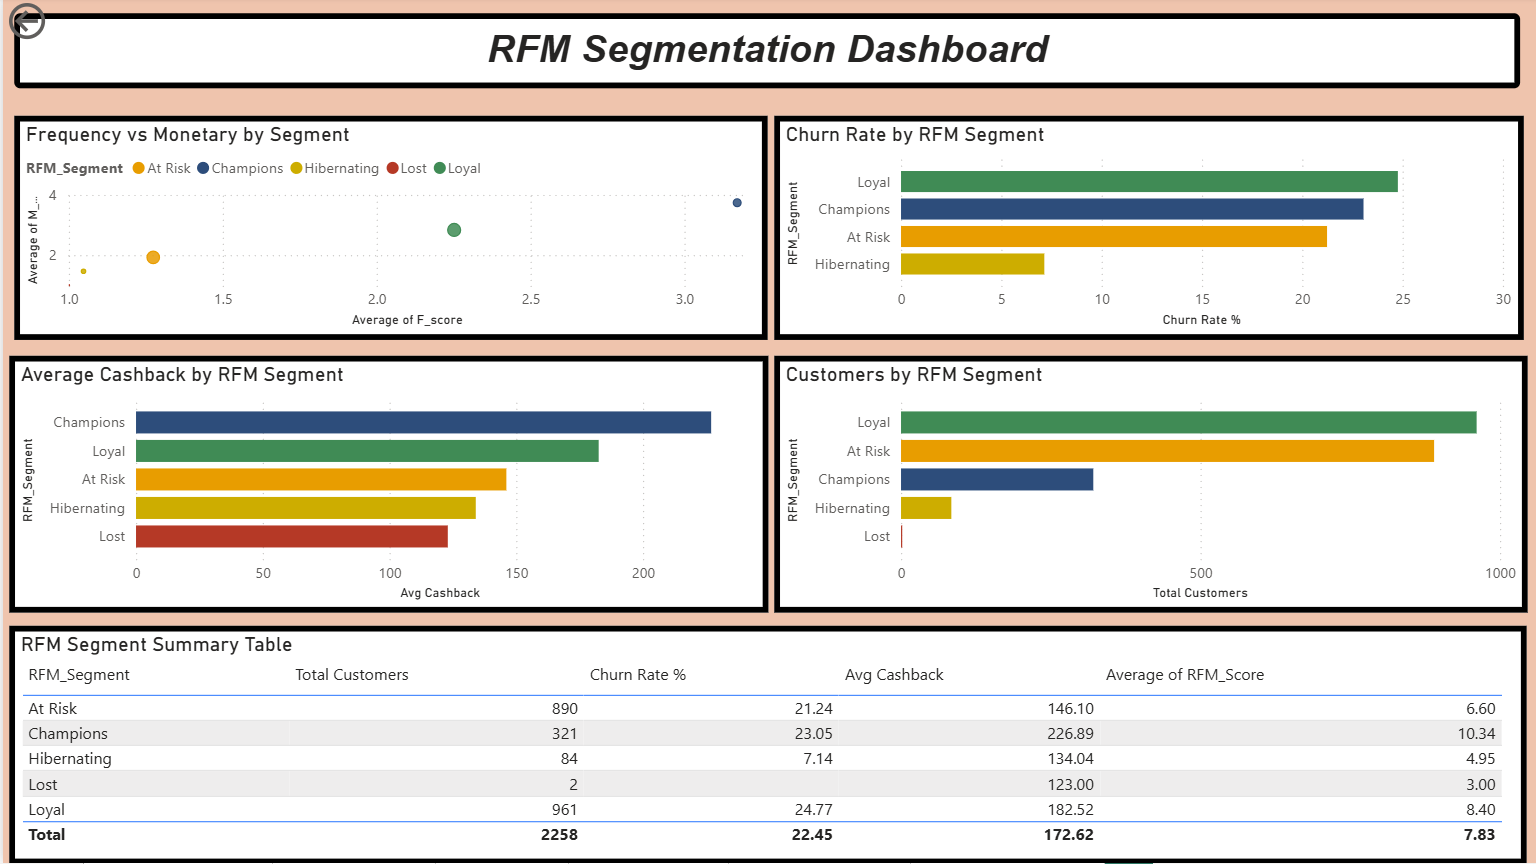

The dashboard page shown, as its layout file describes it:
{"tool":"powerbi","page":{"name":"RFM Segmentation","canvas":[1280,720],"ordinal":4},"visuals":[{"type":"textbox","box":[9.6,13.2,1252.4,62.4],"z":0},{"type":"barChart","title":"Customers by RFM Segment","fields":{"Category":["ecommerce.RFM_Segment"],"Y":["ecommerce.Total Customers"]},"box":[641.2,297.8,626.8,213.7],"z":2000},{"type":"barChart","title":"Churn Rate by RFM Segment","fields":{"Category":["ecommerce.RFM_Segment"],"Y":["ecommerce.Churn Rate %"]},"box":[641.2,98.5,623.2,186.1],"z":3000},{"type":"barChart","title":"Average Cashback by RFM Segment","fields":{"Category":["ecommerce.RFM_Segment"],"Y":["ecommerce.Avg Cashback"]},"box":[4.8,297.8,631.6,213.7],"z":4000},{"type":"scatterChart","title":"Frequency vs Monetary by Segment","fields":{"X":["Avg(ecommerce.F_score)"],"Y":["Avg(ecommerce.M_score)"],"Series":["ecommerce.RFM_Segment"],"Size":["ecommerce.Total Customers"]},"box":[9.6,98.5,626.8,186.1],"z":5000},{"type":"tableEx","title":"RFM Segment Summary Table","fields":{"Values":["ecommerce.RFM_Segment","ecommerce.Total Customers","ecommerce.Churn Rate %","ecommerce.Avg Cashback","Avg(ecommerce.RFM_Score)"]},"box":[4.8,522.3,1262,198.1],"z":6000},{"type":"actionButton","box":[0,0,100,40],"z":7000}]}

Visuals, with their boxes in screenshot pixels (x1, y1, x2, y2), scaled from the page's 1280x720 canvas onto the 1536x864 screenshot:
textbox: [12,16,1514,91]
"Customers by RFM Segment" barChart: [769,357,1522,614]
"Churn Rate by RFM Segment" barChart: [769,118,1517,342]
"Average Cashback by RFM Segment" barChart: [6,357,764,614]
"Frequency vs Monetary by Segment" scatterChart: [12,118,764,342]
"RFM Segment Summary Table" tableEx: [6,627,1520,863]
actionButton: [0,0,120,48]
